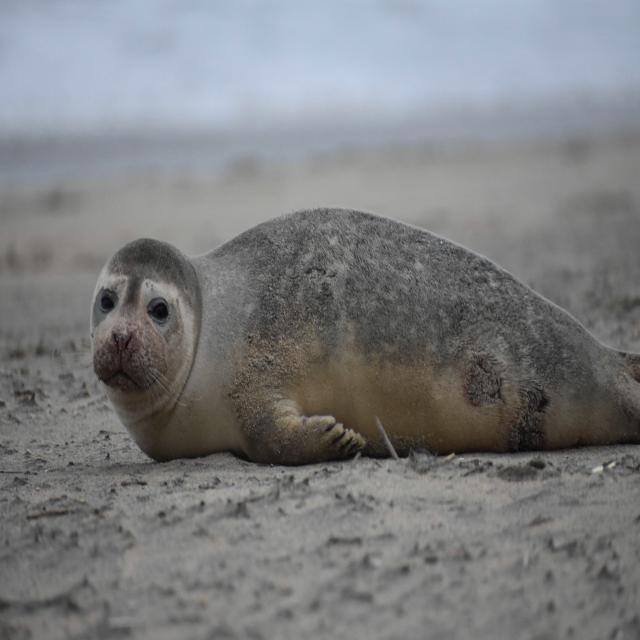seal: (90, 209, 640, 465)
